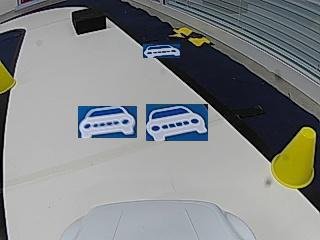block: (71, 7, 107, 35)
cone: (271, 128, 316, 187), (0, 60, 16, 95)
